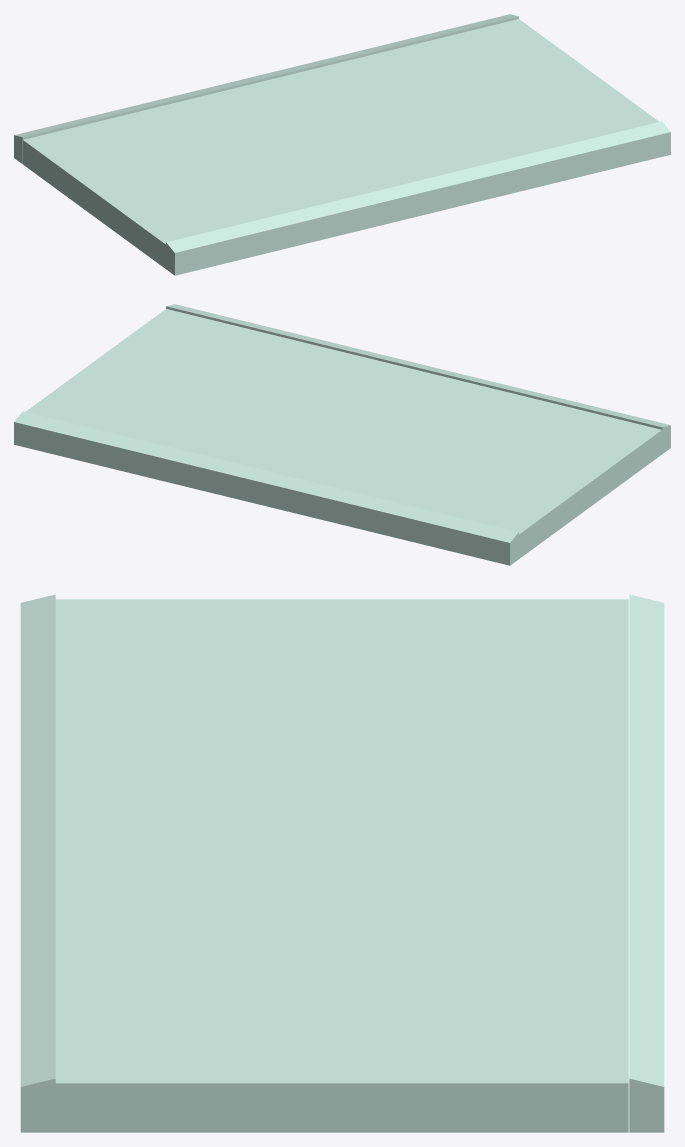
3 views of the same model, one above another, from view 1: azimuth 30°, elevation 25°; view 2: azimuth 150°, elevation 25°; view 3: azimuth 270°, elevation 25° (orthographic). The views are drawn at different scales.
Parts seen in each view (by area): view 1: Renderer Node; view 2: Renderer Node; view 3: Renderer Node.
Boxes of the visible parts, box(x1,y1,x2,y2) form: Renderer Node: box(14, 14, 670, 275); Renderer Node: box(14, 304, 670, 565); Renderer Node: box(20, 594, 664, 1132).
Bounding box in the file's own units: 1.5 × 0.0781 × 0.8429.
